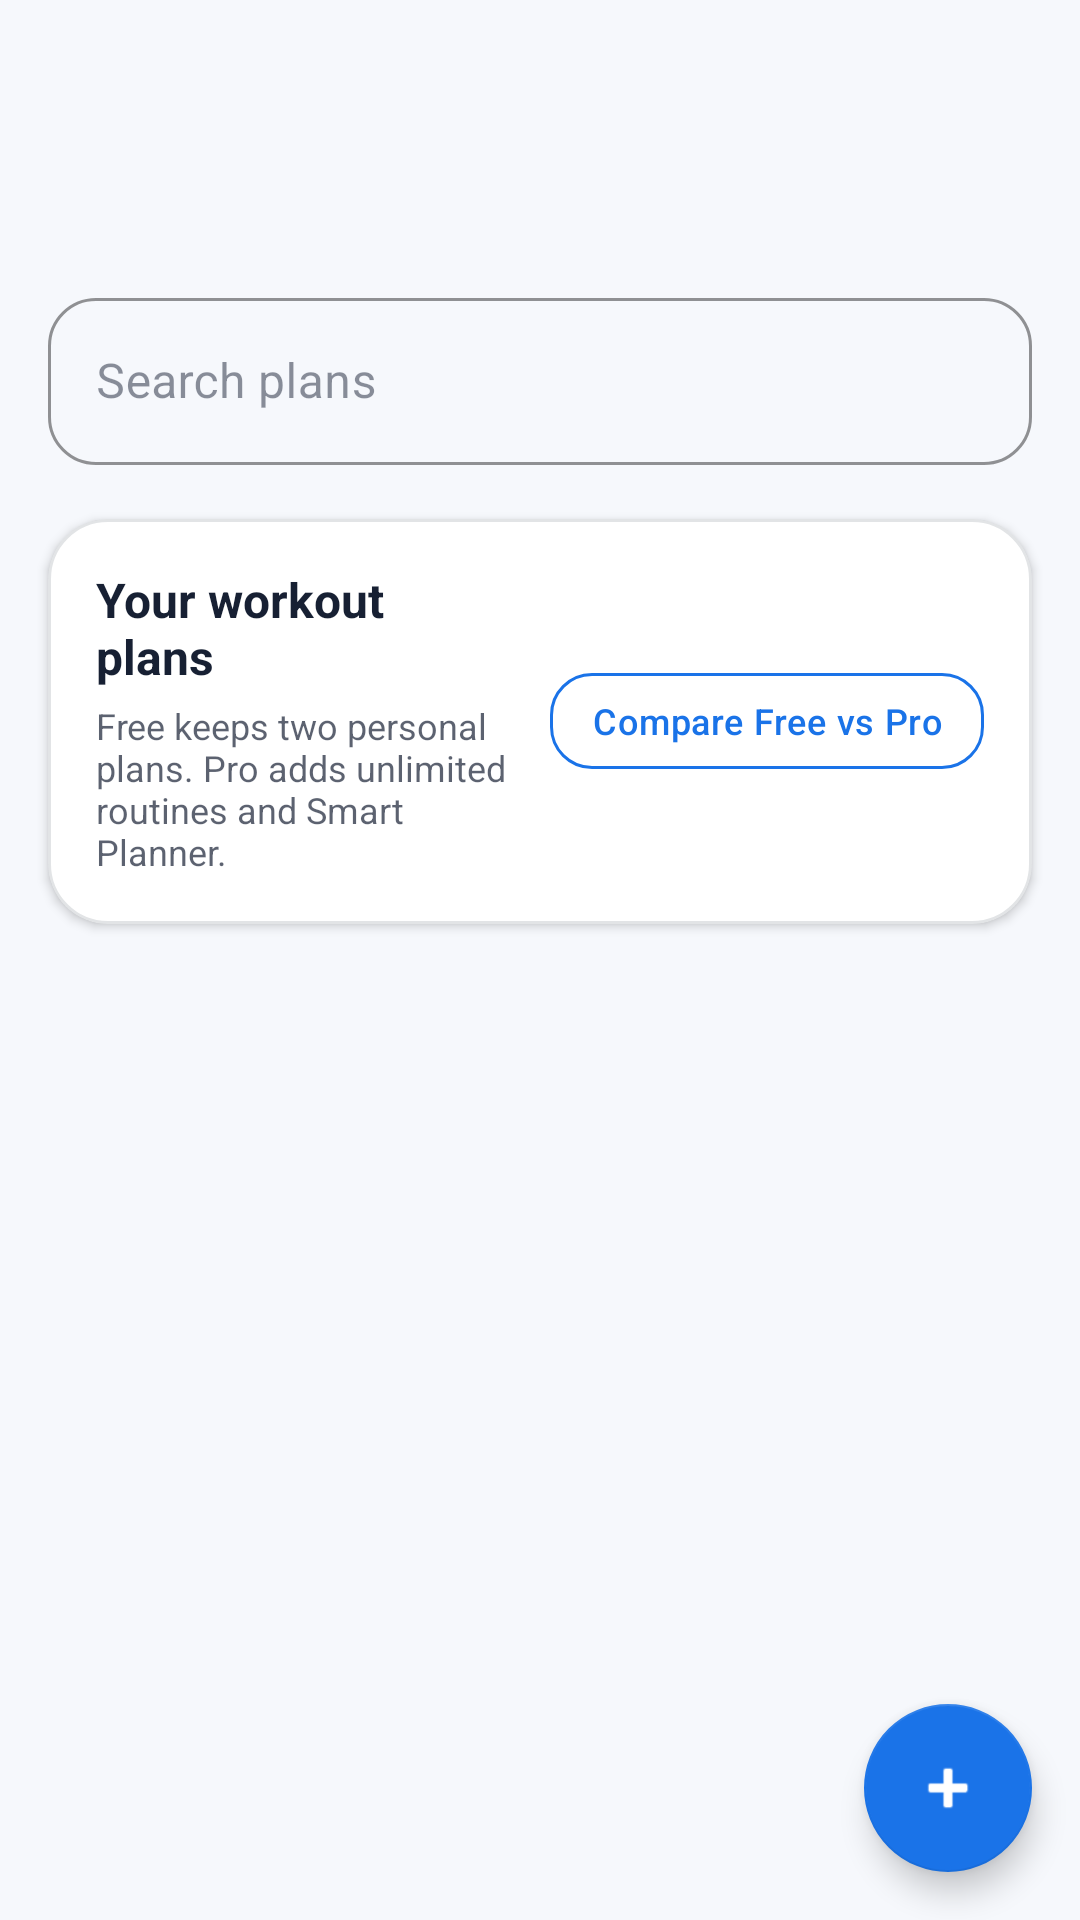

Icon bounding boxes for this 1080*1920 phone screenshot, format (x1, y1, x2, y2):
Create Plan: (864, 1704, 1032, 1872)
